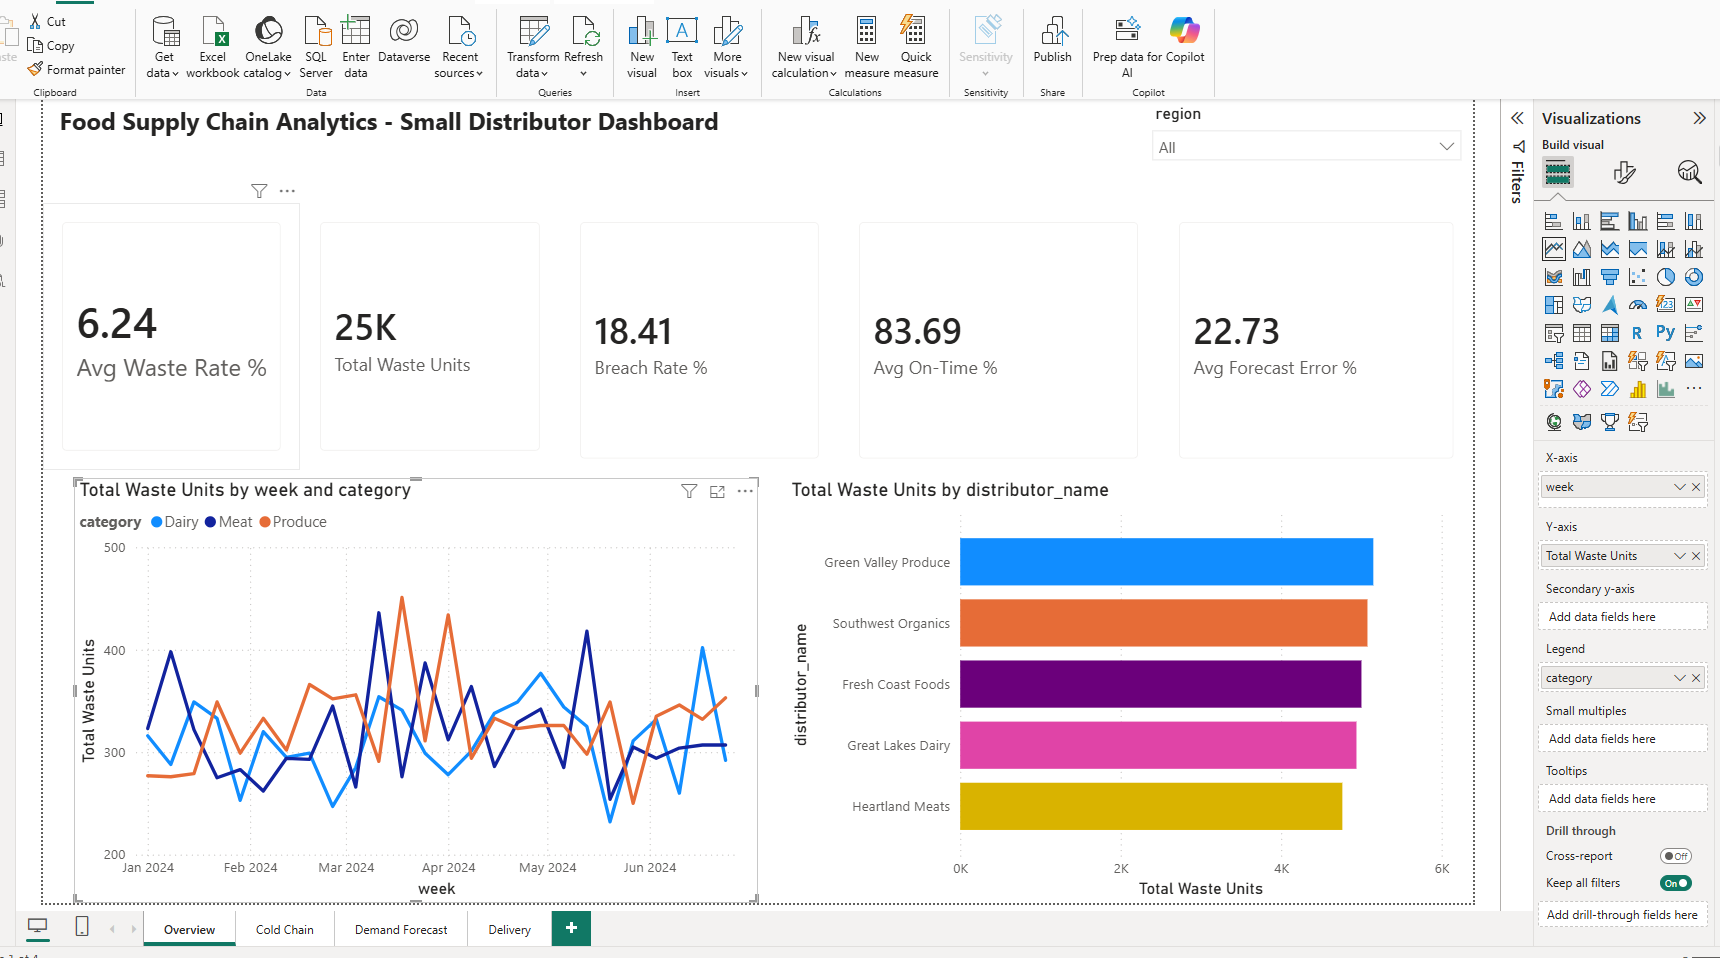

What the dashboard file says about the page in this screenshot:
{"tool":"powerbi","page":{"name":"Overview","canvas":[1280,720],"ordinal":0},"visuals":[{"type":"textbox","box":[9.7,0,630.3,59.3],"z":0},{"type":"cardVisual","fields":{"Data":["inventory_waste Food supply chain Dashboard.Avg Waste Rate %"]},"box":[0,93.4,230.5,239.3],"z":1000},{"type":"cardVisual","fields":{"Data":["inventory_waste Food supply chain Dashboard.Total Waste Units"]},"box":[231.5,93.4,231.5,239.3],"z":2000},{"type":"cardVisual","fields":{"Data":["inventory_waste Food supply chain Dashboard.Breach Rate %"]},"box":[464,93.4,248,246.1],"z":3000},{"type":"cardVisual","fields":{"Data":["inventory_waste Food supply chain Dashboard.Avg On-Time %"]},"box":[713.4,93.4,285,246.1],"z":4000},{"type":"cardVisual","fields":{"Data":["inventory_waste Food supply chain Dashboard.Avg Forecast Error %"]},"box":[999.9,93.4,280.1,246.1],"z":5000},{"type":"lineChart","fields":{"Y":["inventory_waste Food supply chain Dashboard.Total Waste Units"],"Series":["inventory_waste Food supply chain Dashboard.category"],"Category":["inventory_waste Food supply chain Dashboard.week"]},"box":[28.2,339.5,515.5,380.3],"z":6000},{"type":"clusteredBarChart","fields":{"Category":["demand_forecast Fsupply chain Dashboard.distributor_name"],"Y":["inventory_waste Food supply chain Dashboard.Total Waste Units"]},"box":[670.2,380.3,506.7,339.5],"z":7000},{"type":"slicer","fields":{"Values":["inventory_waste Food supply chain Dashboard.region"]},"box":[983.3,0,296.7,84.6],"z":8000}]}

Visuals, with their boxes on the page's 1280x720 design canvas (x1, y1, x2, y2). These are canvas units, not pixel positions in the 1720x958 screenshot, which may show the page scaled, cropped or inside an application window:
textbox: 10, 0, 640, 59
cardVisual - inventory_waste Food supply chain Dashboard.Avg Waste Rate %: 0, 93, 230, 333
cardVisual - inventory_waste Food supply chain Dashboard.Total Waste Units: 232, 93, 463, 333
cardVisual - inventory_waste Food supply chain Dashboard.Breach Rate %: 464, 93, 712, 340
cardVisual - inventory_waste Food supply chain Dashboard.Avg On-Time %: 713, 93, 998, 340
cardVisual - inventory_waste Food supply chain Dashboard.Avg Forecast Error %: 1000, 93, 1280, 340
lineChart - inventory_waste Food supply chain Dashboard.Total Waste Units x inventory_waste Food supply chain Dashboard.category: 28, 340, 544, 720
clusteredBarChart - demand_forecast Fsupply chain Dashboard.distributor_name x inventory_waste Food supply chain Dashboard.Total Waste Units: 670, 380, 1177, 720
slicer - inventory_waste Food supply chain Dashboard.region: 983, 0, 1280, 85
